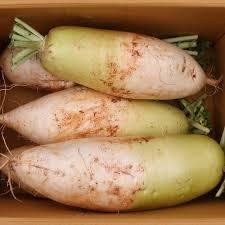radish: (0, 48, 79, 74), (12, 8, 79, 35), (0, 30, 69, 50)
